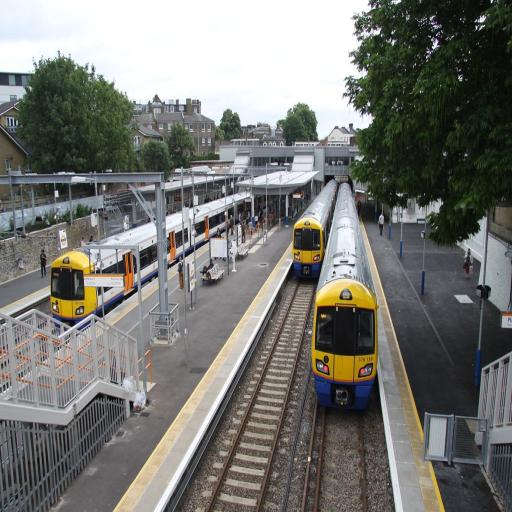platform_edge: (141, 365, 247, 506), (223, 278, 301, 346)
